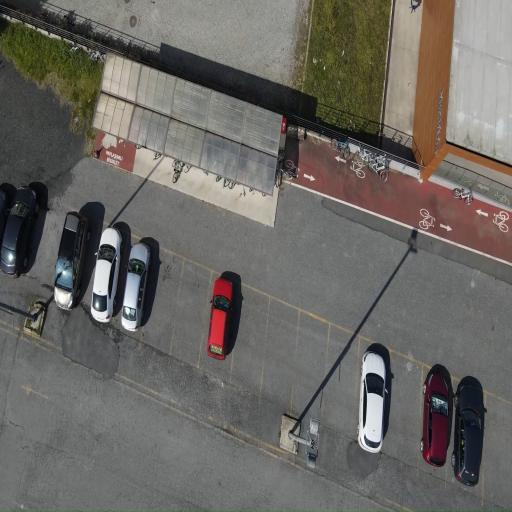car: (54, 212, 90, 309), (0, 187, 39, 276), (452, 377, 484, 485), (91, 228, 122, 322), (358, 351, 386, 452), (420, 373, 448, 466), (122, 243, 150, 331), (207, 278, 233, 359), (0, 190, 9, 239)
